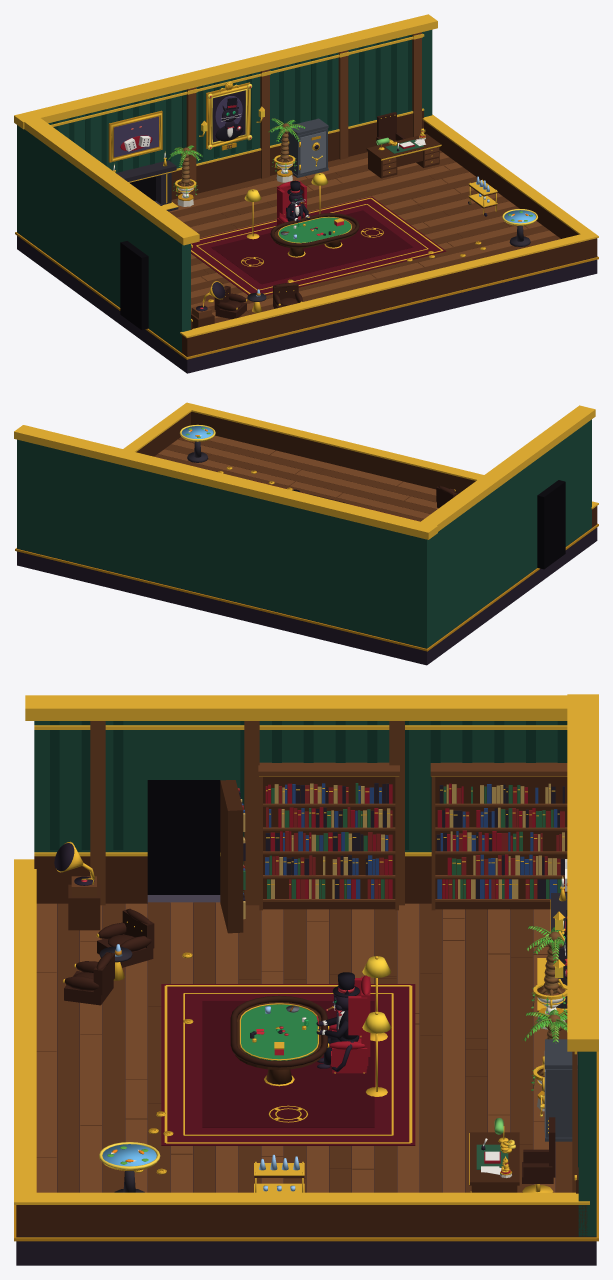
Rendered from casino-bureau.glb.
3 renders of one model, top to bottom at view 1: azimuth 30°, elevation 25°; view 2: azimuth 150°, elevation 25°; view 3: azimuth 270°, elevation 25°, orthographic. The views are drawn at different scales.
Visible parts, largest first — view 1: mur.004, parquet.024, corniche.002, muret.004, parquet.025, socle, rayure.038, muret.005, tapis_bureau, tapis_bureau.001, pilastre.013, lambris.003 (+18 smaller); view 2: mur.004, corniche.002, socle, muret.004, parquet.025, parquet.024, muret.005, ombre.002, socle.010; view 3: parquet.024, parquet.025, mur.004, corniche.002, socle, muret.004, tapis_bureau, biblio.008, muret.005, tapis_bureau.001, rayure.038, ombre.002 (+27 smaller).
Part boxes in pixels (<box>): mur.004: <box>17,30,432,352</box>; parquet.024: <box>170,150,560,323</box>; corniche.002: <box>14,14,437,245</box>; muret.004: <box>182,121,597,356</box>; parquet.025: <box>169,152,555,318</box>; socle: <box>17,232,597,373</box>; rayure.038: <box>53,34,412,172</box>; muret.005: <box>180,114,598,338</box>; tapis_bureau: <box>191,196,446,295</box>; tapis_bureau.001: <box>211,210,413,284</box>; pilastre.013: <box>186,32,421,195</box>; lambris.003: <box>171,110,423,329</box>; mur.004: <box>17,419,591,648</box>; corniche.002: <box>14,405,595,539</box>; socle: <box>17,524,597,665</box>; muret.004: <box>136,411,597,527</box>; parquet.025: <box>158,435,438,518</box>; parquet.024: <box>154,437,436,521</box>; muret.005: <box>123,402,598,509</box>; ombre.002: <box>537,480,565,569</box>; socle.010: <box>15,523,598,651</box>; parquet.024: <box>57,902,572,1192</box>; parquet.025: <box>36,902,555,1192</box>; mur.004: <box>34,721,596,1236</box>; corniche.002: <box>25,694,598,1051</box>; socle: <box>16,903,596,1265</box>; muret.004: <box>16,1205,587,1236</box>; tapis_bureau: <box>161,984,415,1145</box>; biblio.008: <box>263,777,567,909</box>; muret.005: <box>14,859,589,1204</box>; tapis_bureau.001: <box>202,1001,374,1127</box>; rayure.038: <box>50,721,578,1167</box>; ombre.002: <box>147,780,220,894</box>.
Size of the model in its own units: 18.2 by 5.55 by 12.9.
